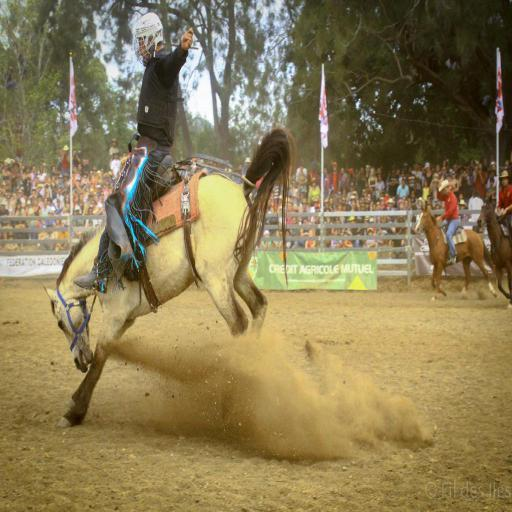horse: (43, 124, 299, 430), (414, 204, 498, 302), (475, 190, 512, 314)
